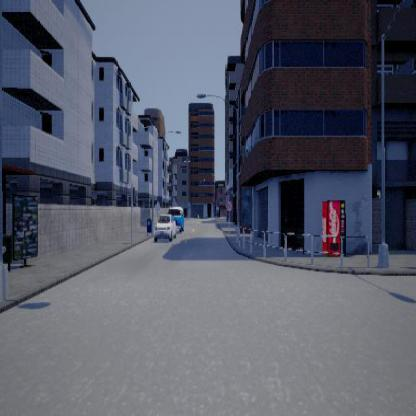traffic_sign_30: (226, 200, 232, 212)
vehicle: (154, 206, 176, 243), (166, 203, 184, 234)
